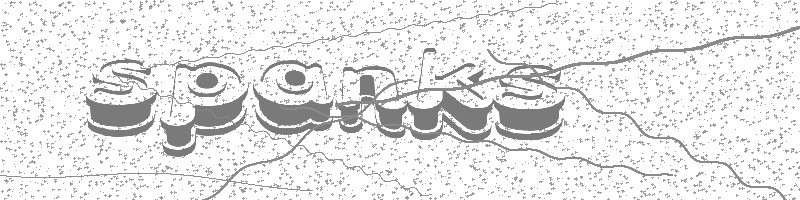a: (252, 55, 336, 135)
k: (408, 45, 493, 142)
n: (338, 65, 407, 141)
p: (161, 59, 247, 157)
s: (84, 53, 157, 138), (494, 62, 567, 141)
